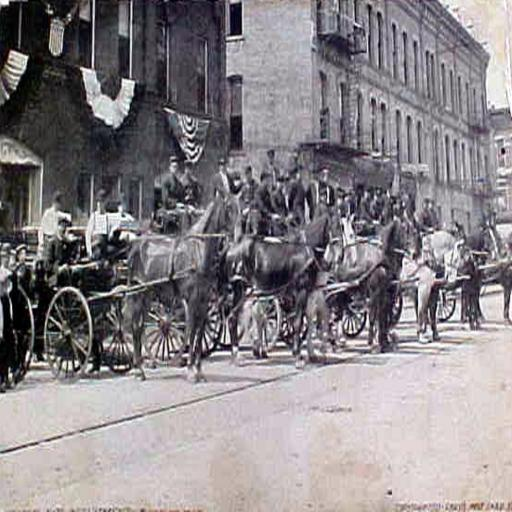horse: (122, 184, 512, 385)
